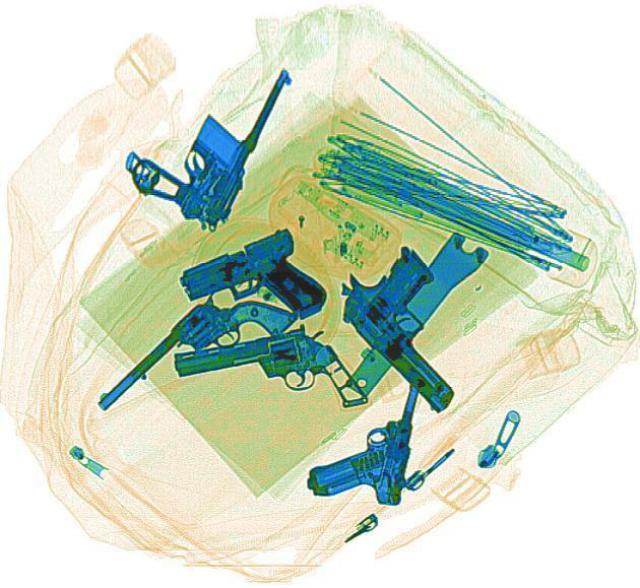Gun: (90, 265, 300, 449), (105, 34, 297, 233), (317, 234, 521, 412), (168, 318, 368, 429), (166, 223, 332, 349), (302, 369, 418, 504)
